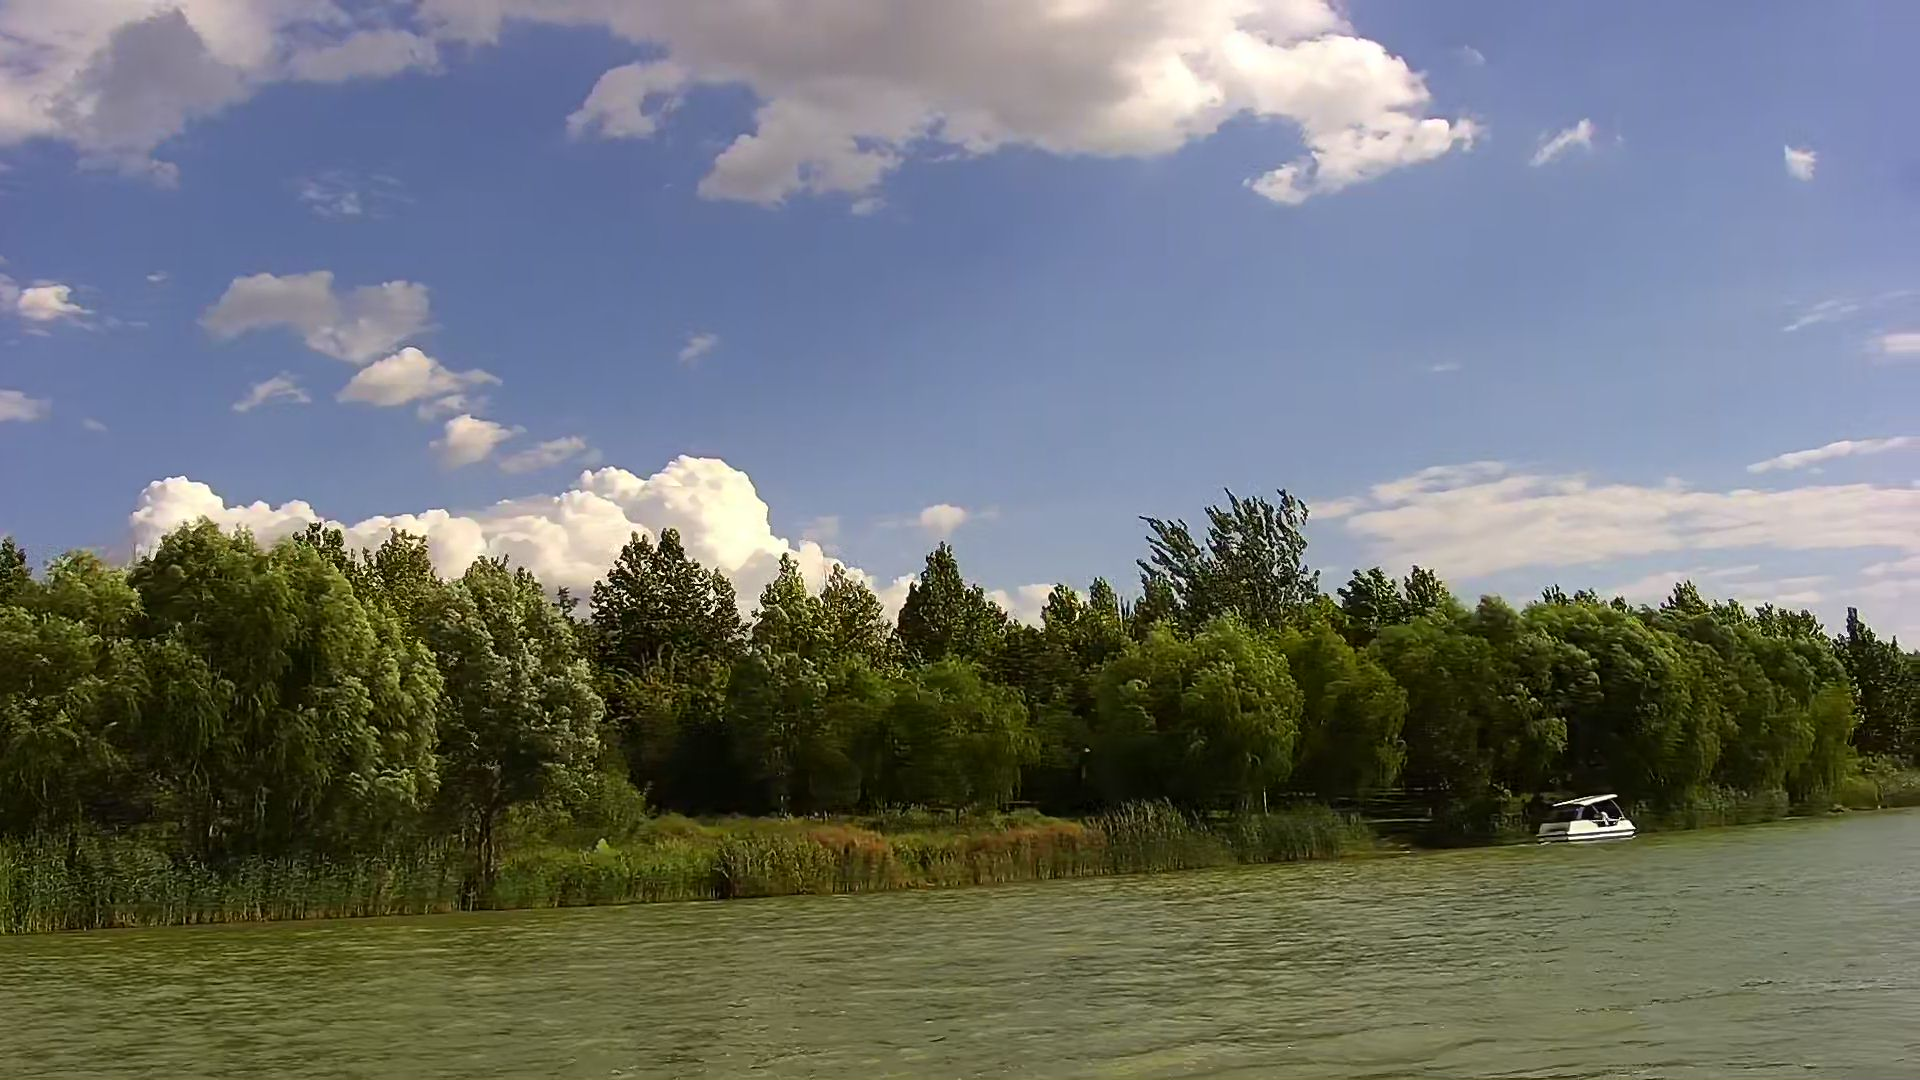boat: (1528, 787, 1648, 856)
